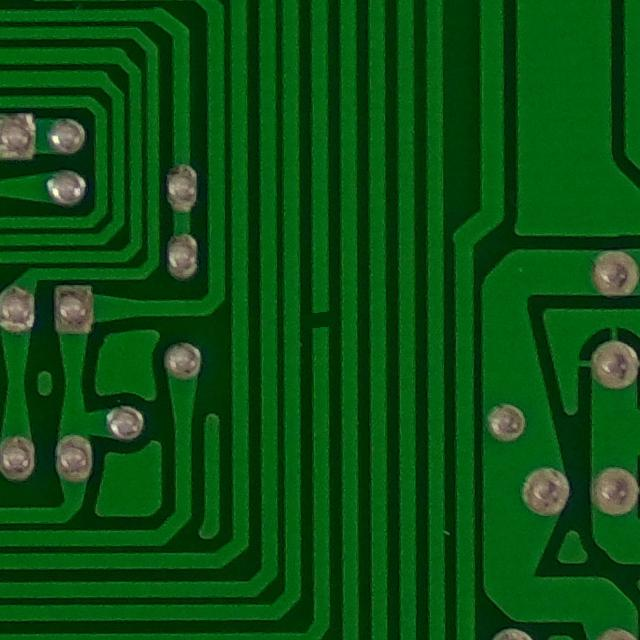open_circuit: (303, 303, 338, 338)
